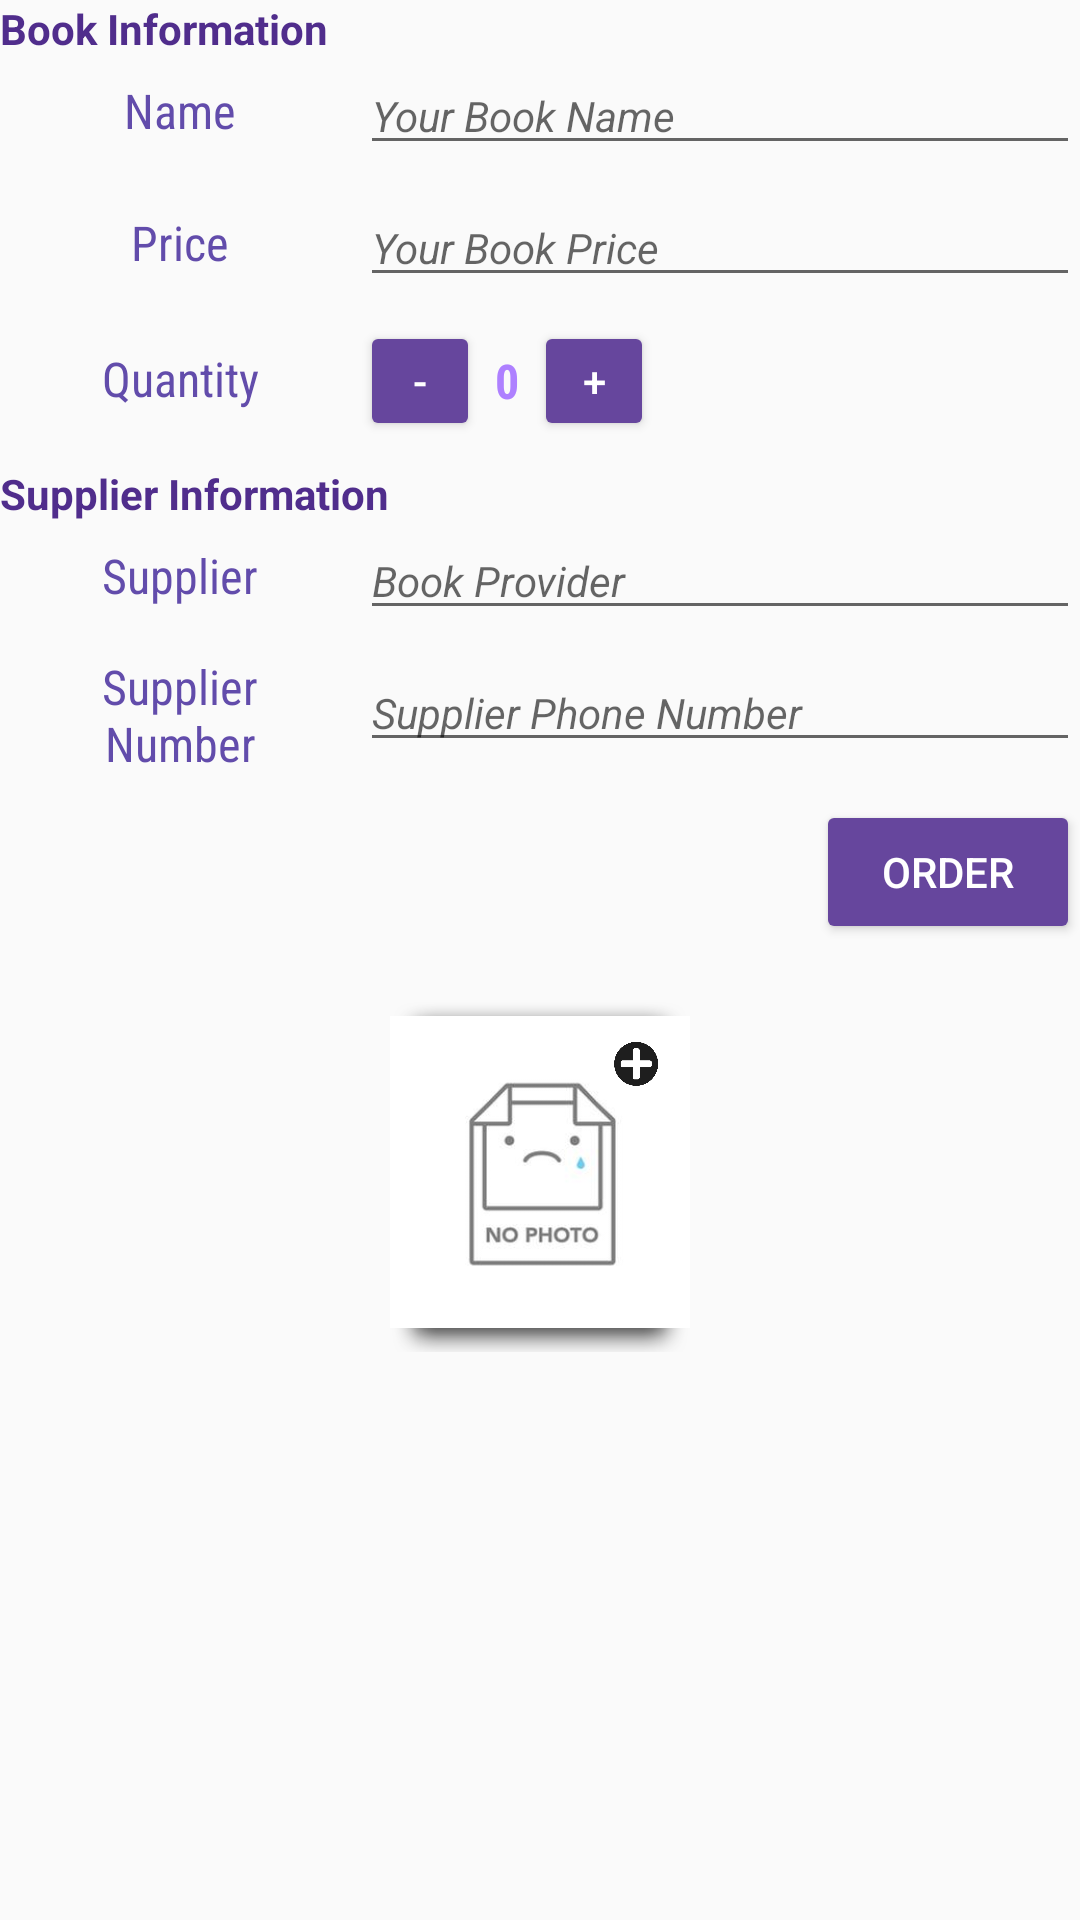

Point at icon controls on the screen. Image size 1080 x 1920, points as [x,y].
add: [636,1064]
